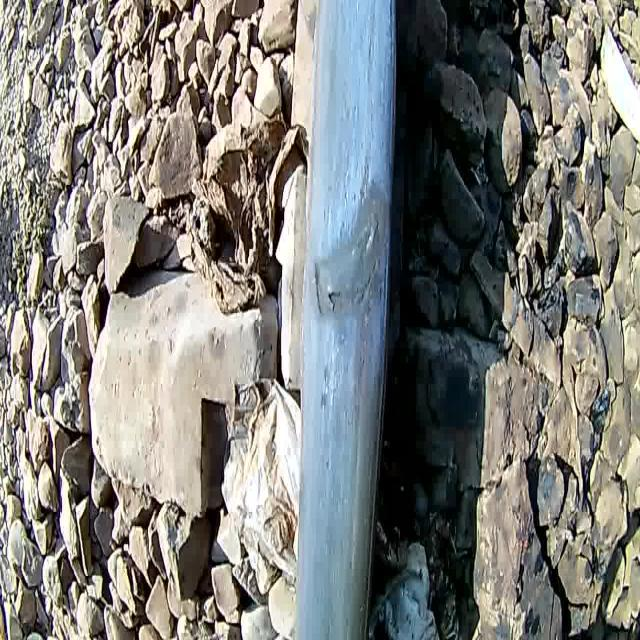Squats: (292, 169, 406, 349)
